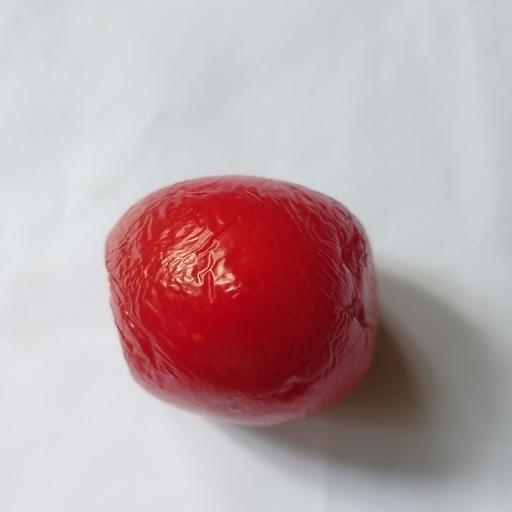spoiled: (106, 176, 378, 424)
